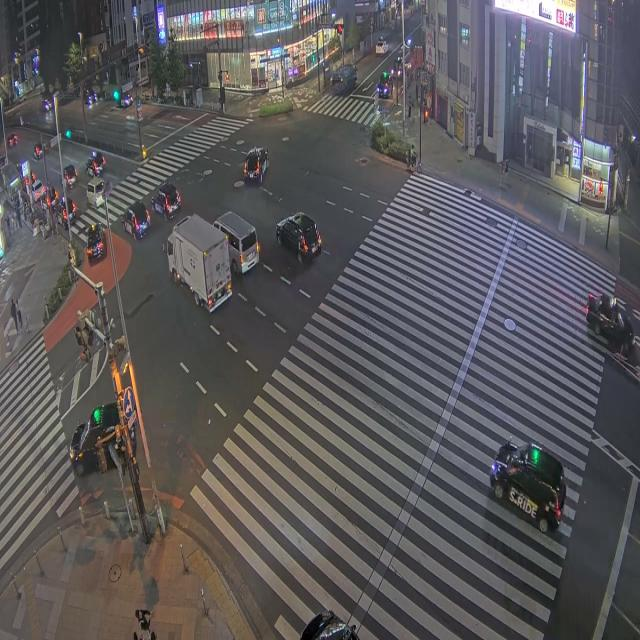car: (490, 440, 566, 533), (69, 402, 119, 475), (587, 294, 634, 354), (276, 213, 321, 262), (300, 610, 358, 639), (121, 201, 151, 239), (152, 183, 180, 220), (244, 148, 268, 183), (86, 224, 106, 262), (56, 197, 77, 226), (86, 152, 105, 176), (377, 72, 392, 98), (46, 183, 60, 207), (63, 165, 77, 188), (32, 180, 46, 202), (391, 56, 404, 79), (376, 38, 388, 55), (24, 171, 36, 187), (84, 90, 96, 106), (121, 94, 132, 108), (34, 144, 43, 159), (7, 134, 17, 147), (43, 98, 52, 112)
truck: (167, 216, 231, 312)
van: (214, 212, 259, 273), (87, 177, 104, 207)
